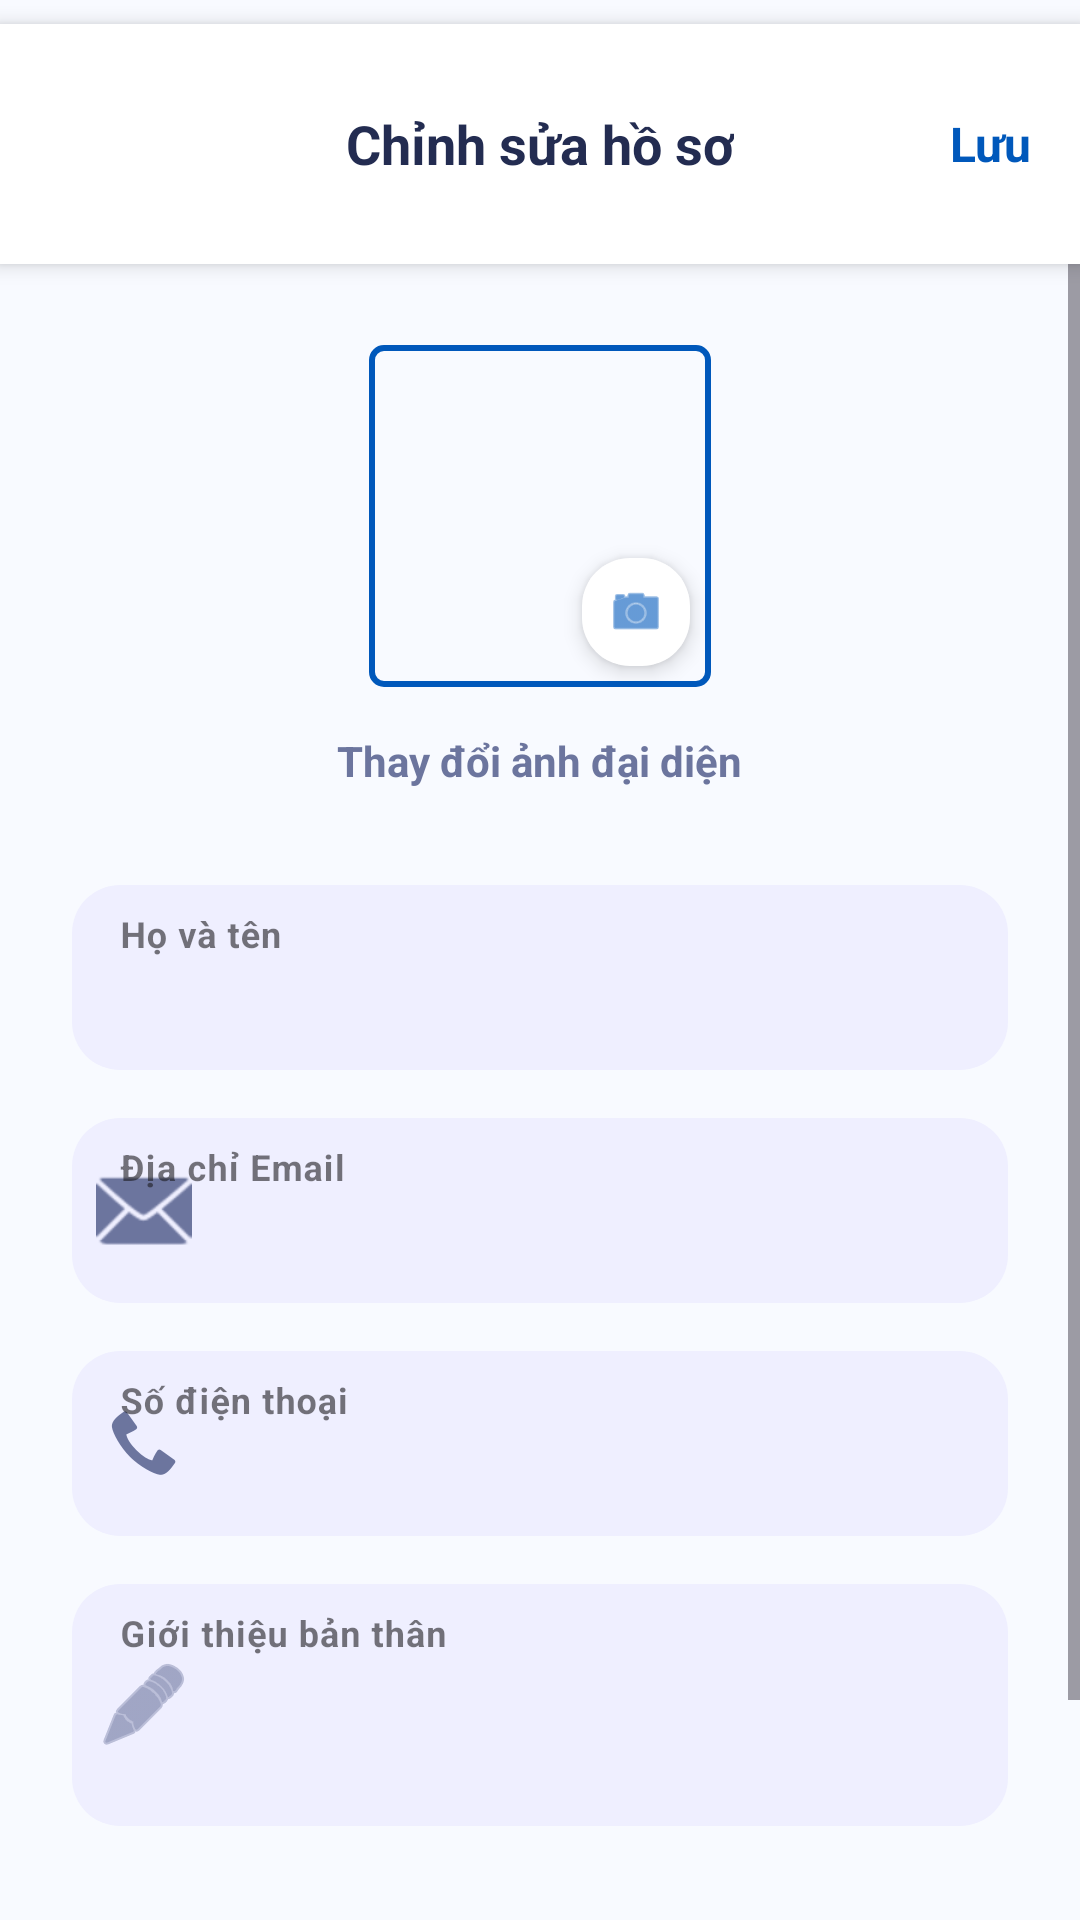

Where icons sit on this 1080×1920 app screen, as (x1, y1, x2, y2):
camera: (582, 593, 691, 669)
